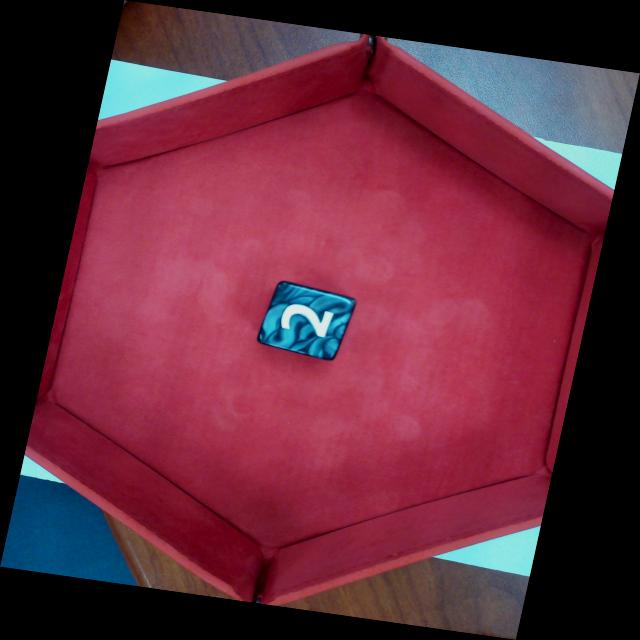dice: (252, 277, 361, 363)
